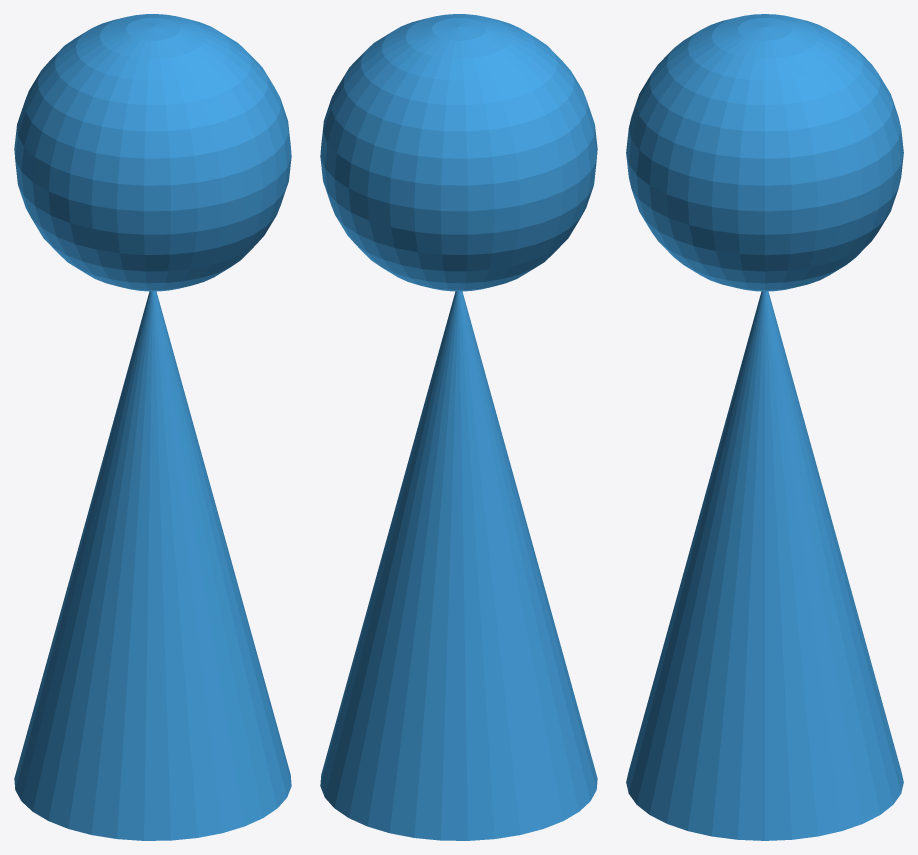
The model's file is avator.glb.
3 views of the same model, side by side, from view 1: azimuth 30°, elevation 25°; view 2: azimuth 150°, elevation 25°; view 3: azimuth 270°, elevation 25° (orthographic).
Parts seen in each view (by area): view 1: 円錐, 球; view 2: 円錐, 球; view 3: 円錐, 球.
Part boxes in pixels (<box>): 円錐: <box>14,291,291,840</box>; 球: <box>14,14,291,291</box>; 円錐: <box>320,291,597,840</box>; 球: <box>320,14,597,291</box>; 円錐: <box>626,291,903,840</box>; 球: <box>626,14,903,291</box>.
Size of the model in its own units: 1 by 3 by 1.
